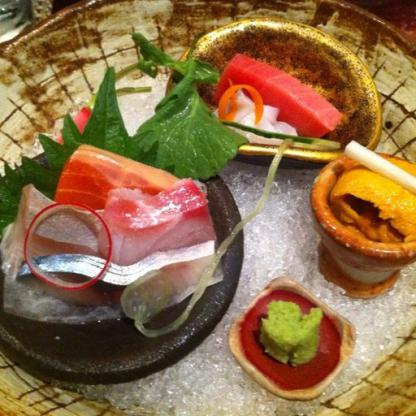tuna: (218, 54, 322, 142), (100, 181, 209, 257)
